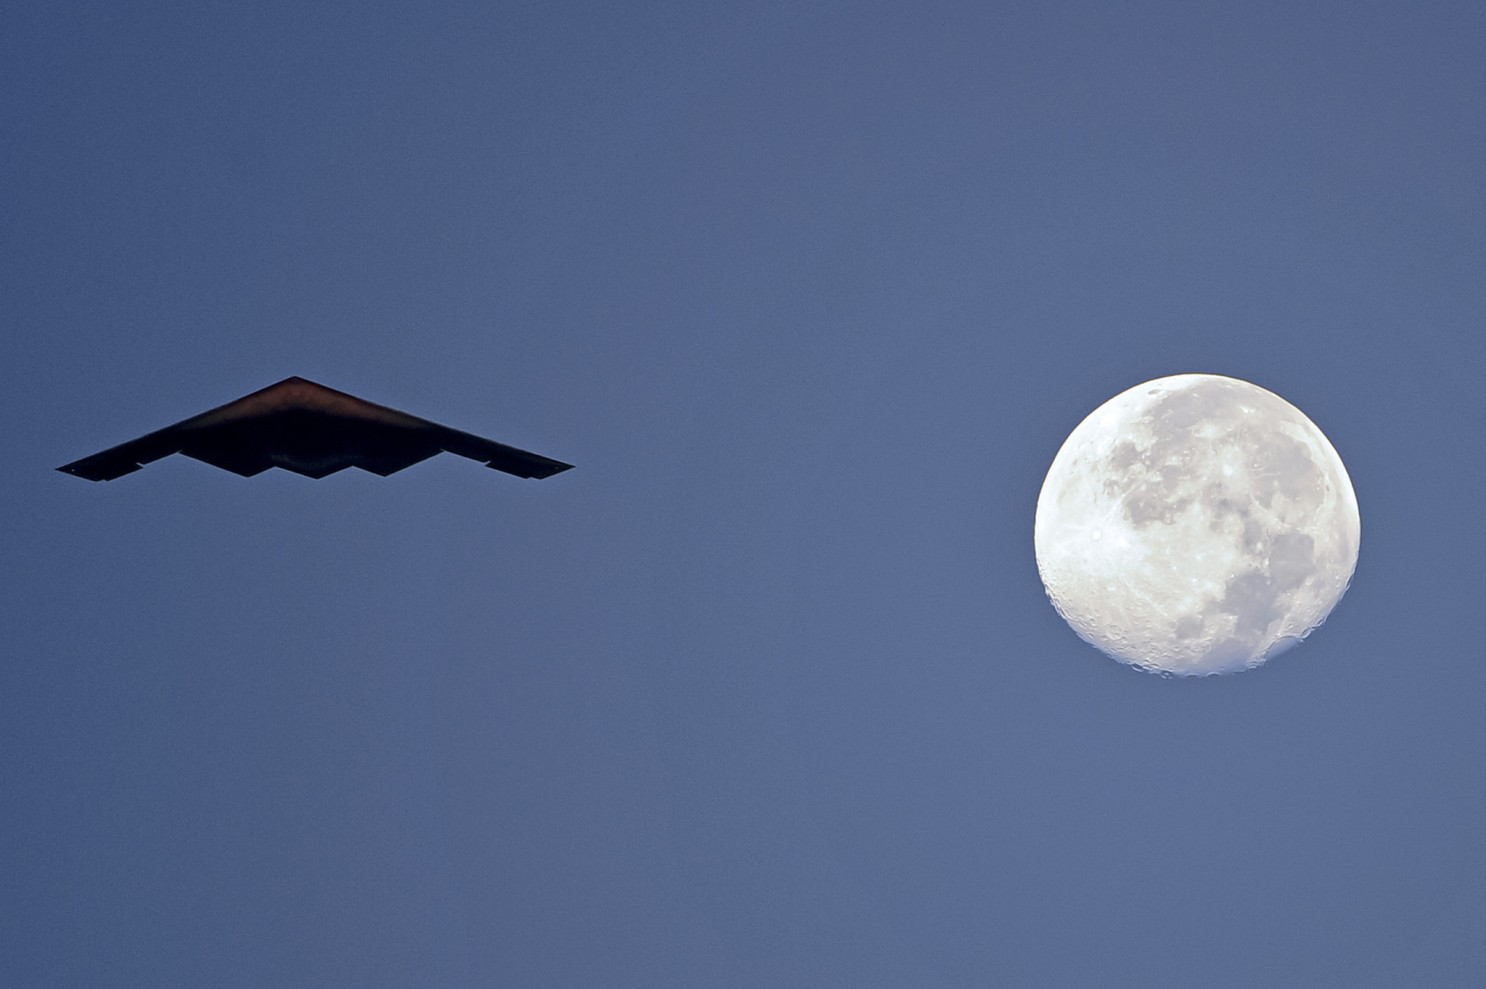B2: (53, 375, 576, 483)
